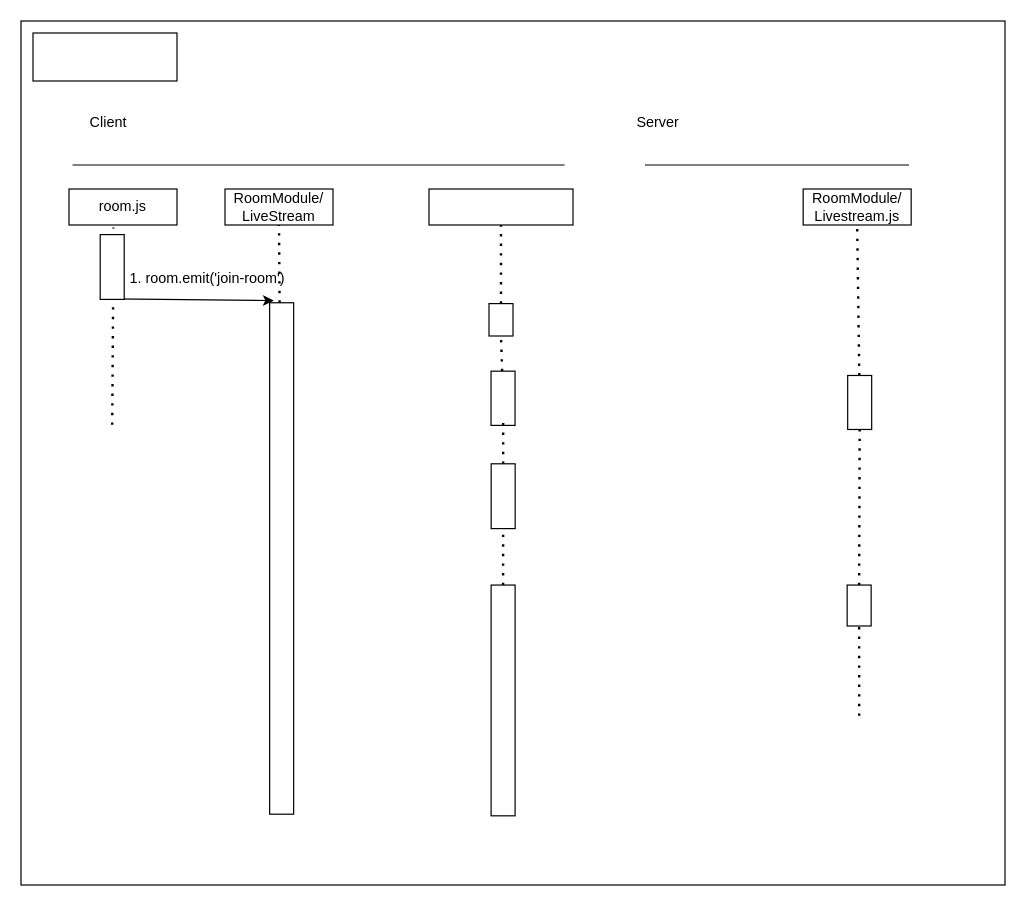
Image size: 1026x906. Some labels were removed from this diagram. Here are the shapes that lost their labels. From the top down, the centre of each, then its label:
point (104, 56): livestream : publish
point (500, 206): RoomModule/ MediasoupInterface
